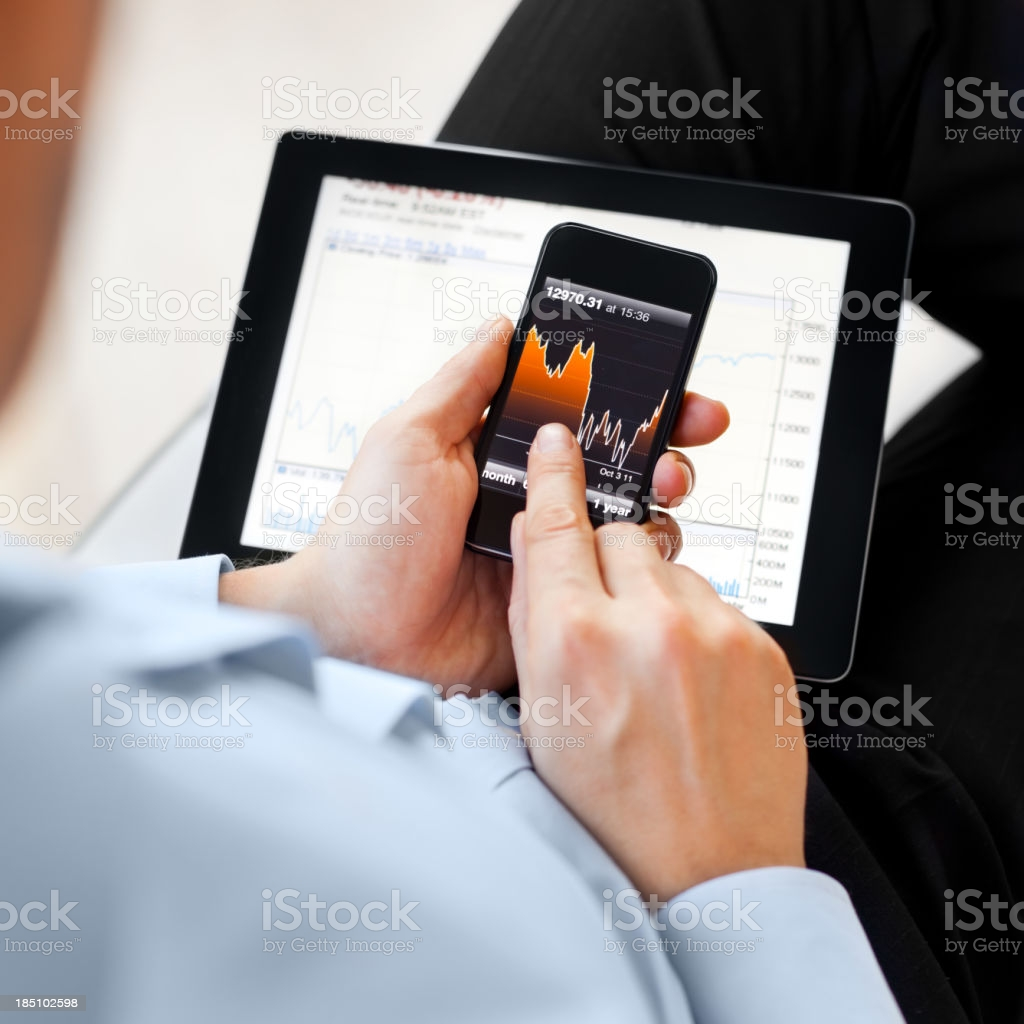Cell Phone: (463, 223, 720, 573)
